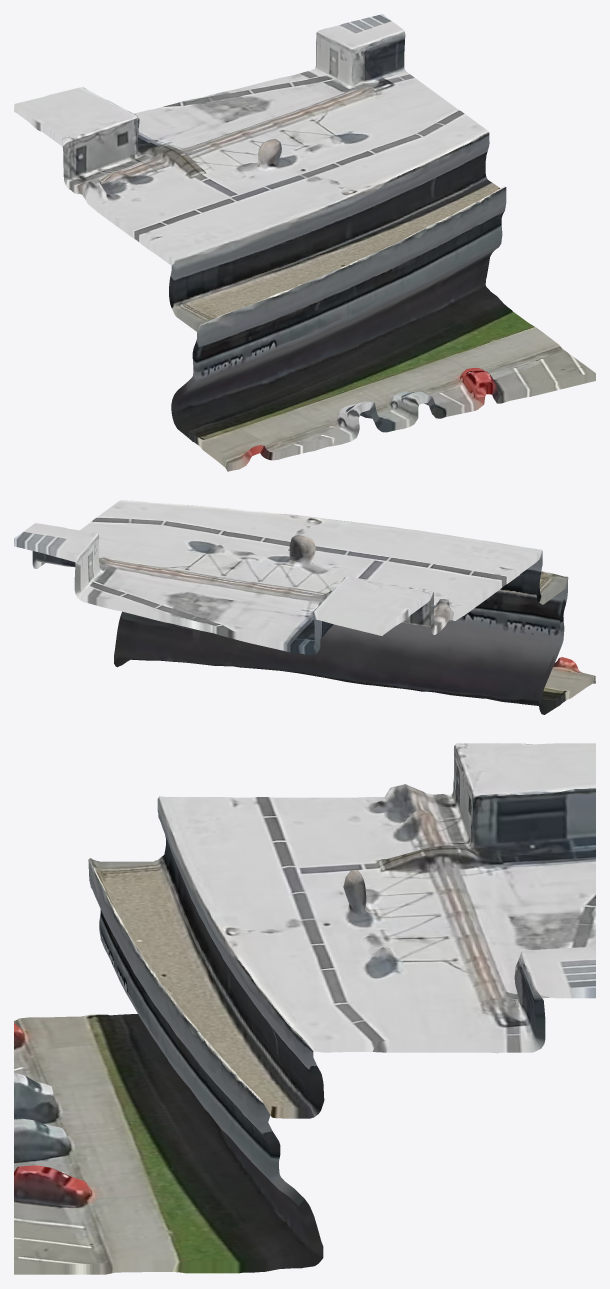
Rendered from z20-167774-405203-h0-yup-uvflip-v3-world.glb.
3 renders of one model, top to bottom at view 1: azimuth 30°, elevation 25°; view 2: azimuth 150°, elevation 25°; view 3: azimuth 270°, elevation 25°, orthographic. The views are drawn at different scales.
Size of the model in its own units: 30.2 by 16.64 by 30.32.
Materials: 1 (1 with a texture image).
